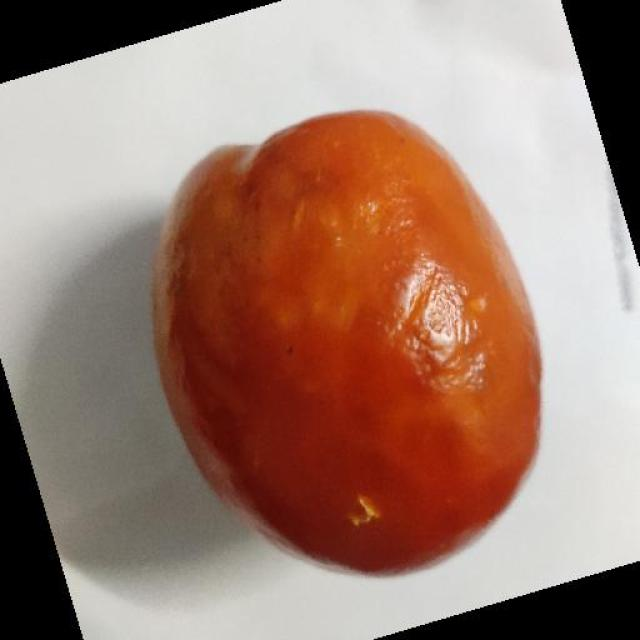Stale_tomato: (158, 121, 544, 546)
